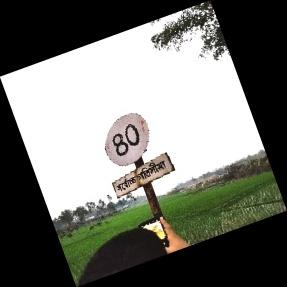Speed-limit: (102, 110, 173, 200)
